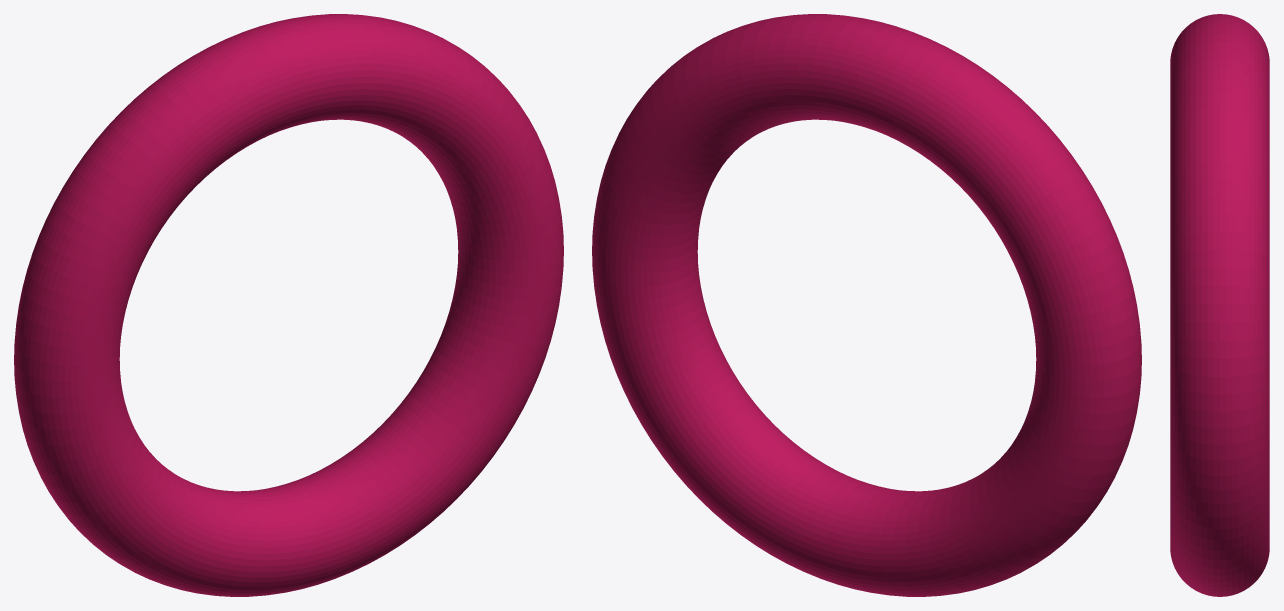
3 views of the same model, side by side, from view 1: azimuth 30°, elevation 25°; view 2: azimuth 150°, elevation 25°; view 3: azimuth 270°, elevation 25° (orthographic). The views are drawn at different scales.
Parts seen in each view (by area): view 1: world; view 2: world; view 3: world.
Part boxes in pixels (box(x1,y1,x2,y2)): world: box(14, 14, 563, 596); world: box(592, 14, 1141, 596); world: box(1170, 14, 1269, 596).
Size of the model in its own units: 25.73 by 25.73 by 4.39.
